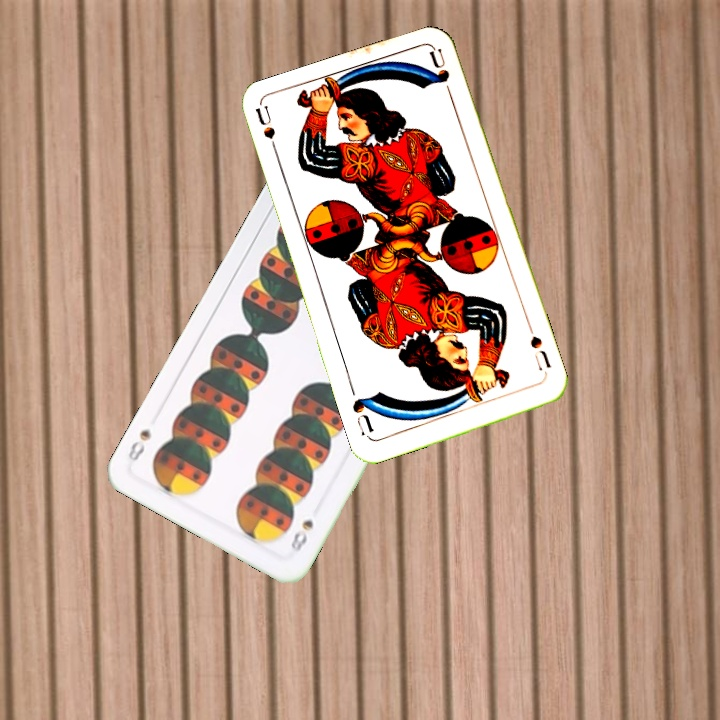S8: (286, 515, 316, 555)
SU: (252, 104, 283, 163), (525, 323, 553, 381)
